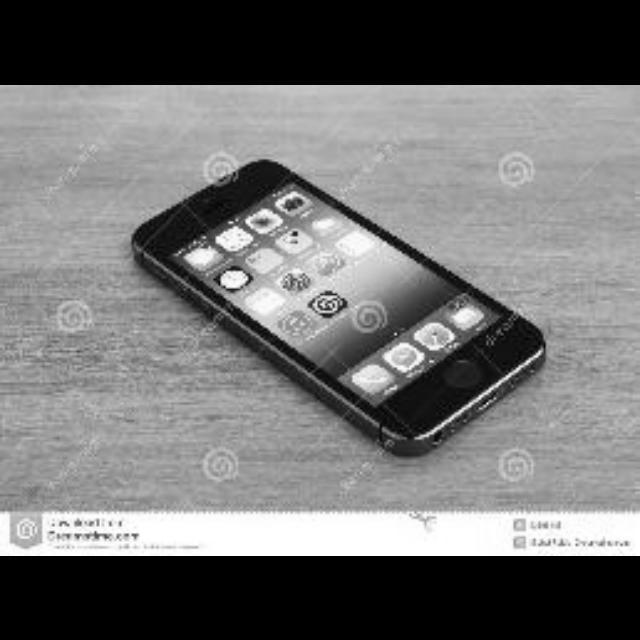fake: (130, 156, 548, 453)
